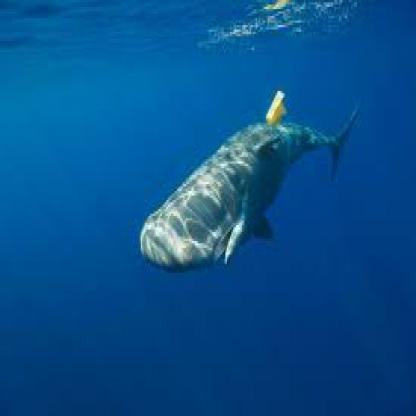sperm_whale: (112, 82, 369, 330)
